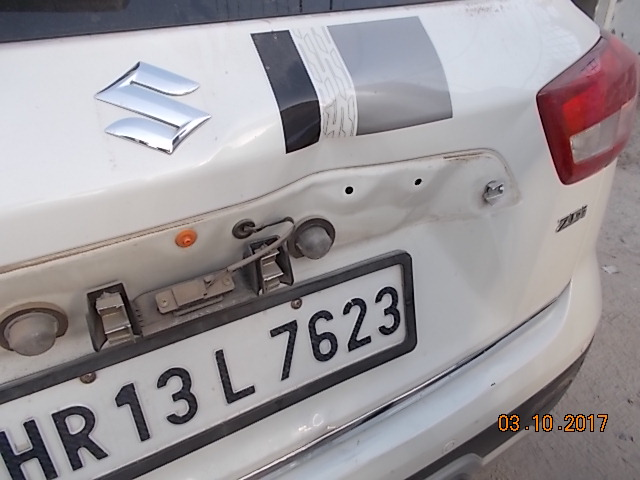Dent: (238, 85, 422, 258)
